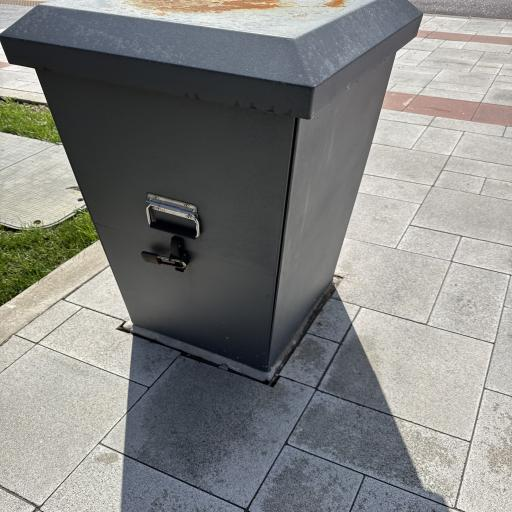Electrical Box: (0, 0, 428, 372)
